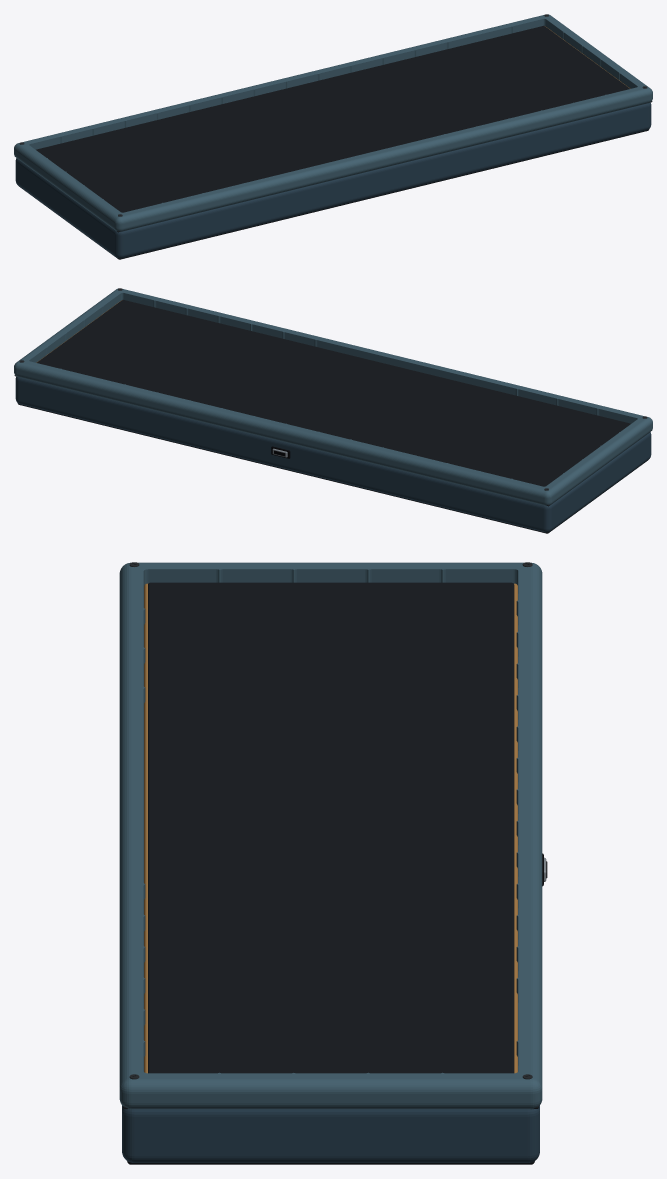
The model's file is ansi-68.glb.
3 renders of one model, top to bottom at view 1: azimuth 30°, elevation 25°; view 2: azimuth 150°, elevation 25°; view 3: azimuth 270°, elevation 25°, orthographic. The views are drawn at different scales.
Parts seen in each view (by area): view 1: KeybedShadow, TopFrame, CaseBody, BottomEdge; view 2: KeybedShadow, TopFrame, CaseBody, BottomEdge; view 3: KeybedShadow, TopFrame, CaseBody, Plate.
Boxes of the visible parts, x1=… form: KeybedShadow: x1=36, y1=25, x2=629, y2=212; TopFrame: x1=14, y1=14, x2=652, y2=231; CaseBody: x1=15, y1=102, x2=651, y2=258; BottomEdge: x1=19, y1=129, x2=649, y2=259; KeybedShadow: x1=37, y1=299, x2=630, y2=486; TopFrame: x1=14, y1=288, x2=652, y2=505; CaseBody: x1=15, y1=376, x2=651, y2=532; BottomEdge: x1=17, y1=403, x2=647, y2=533; KeybedShadow: x1=148, y1=582, x2=514, y2=1073; TopFrame: x1=119, y1=562, x2=542, y2=1109; CaseBody: x1=122, y1=594, x2=539, y2=1162; Plate: x1=144, y1=583, x2=517, y2=1073.
Bounding box in the file's own units: 0.3178 × 0.0263 × 0.1095.
